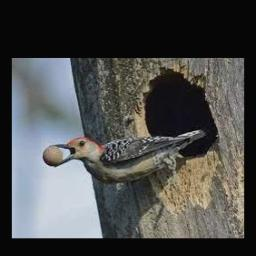Woodpecker: (49, 128, 206, 184)
